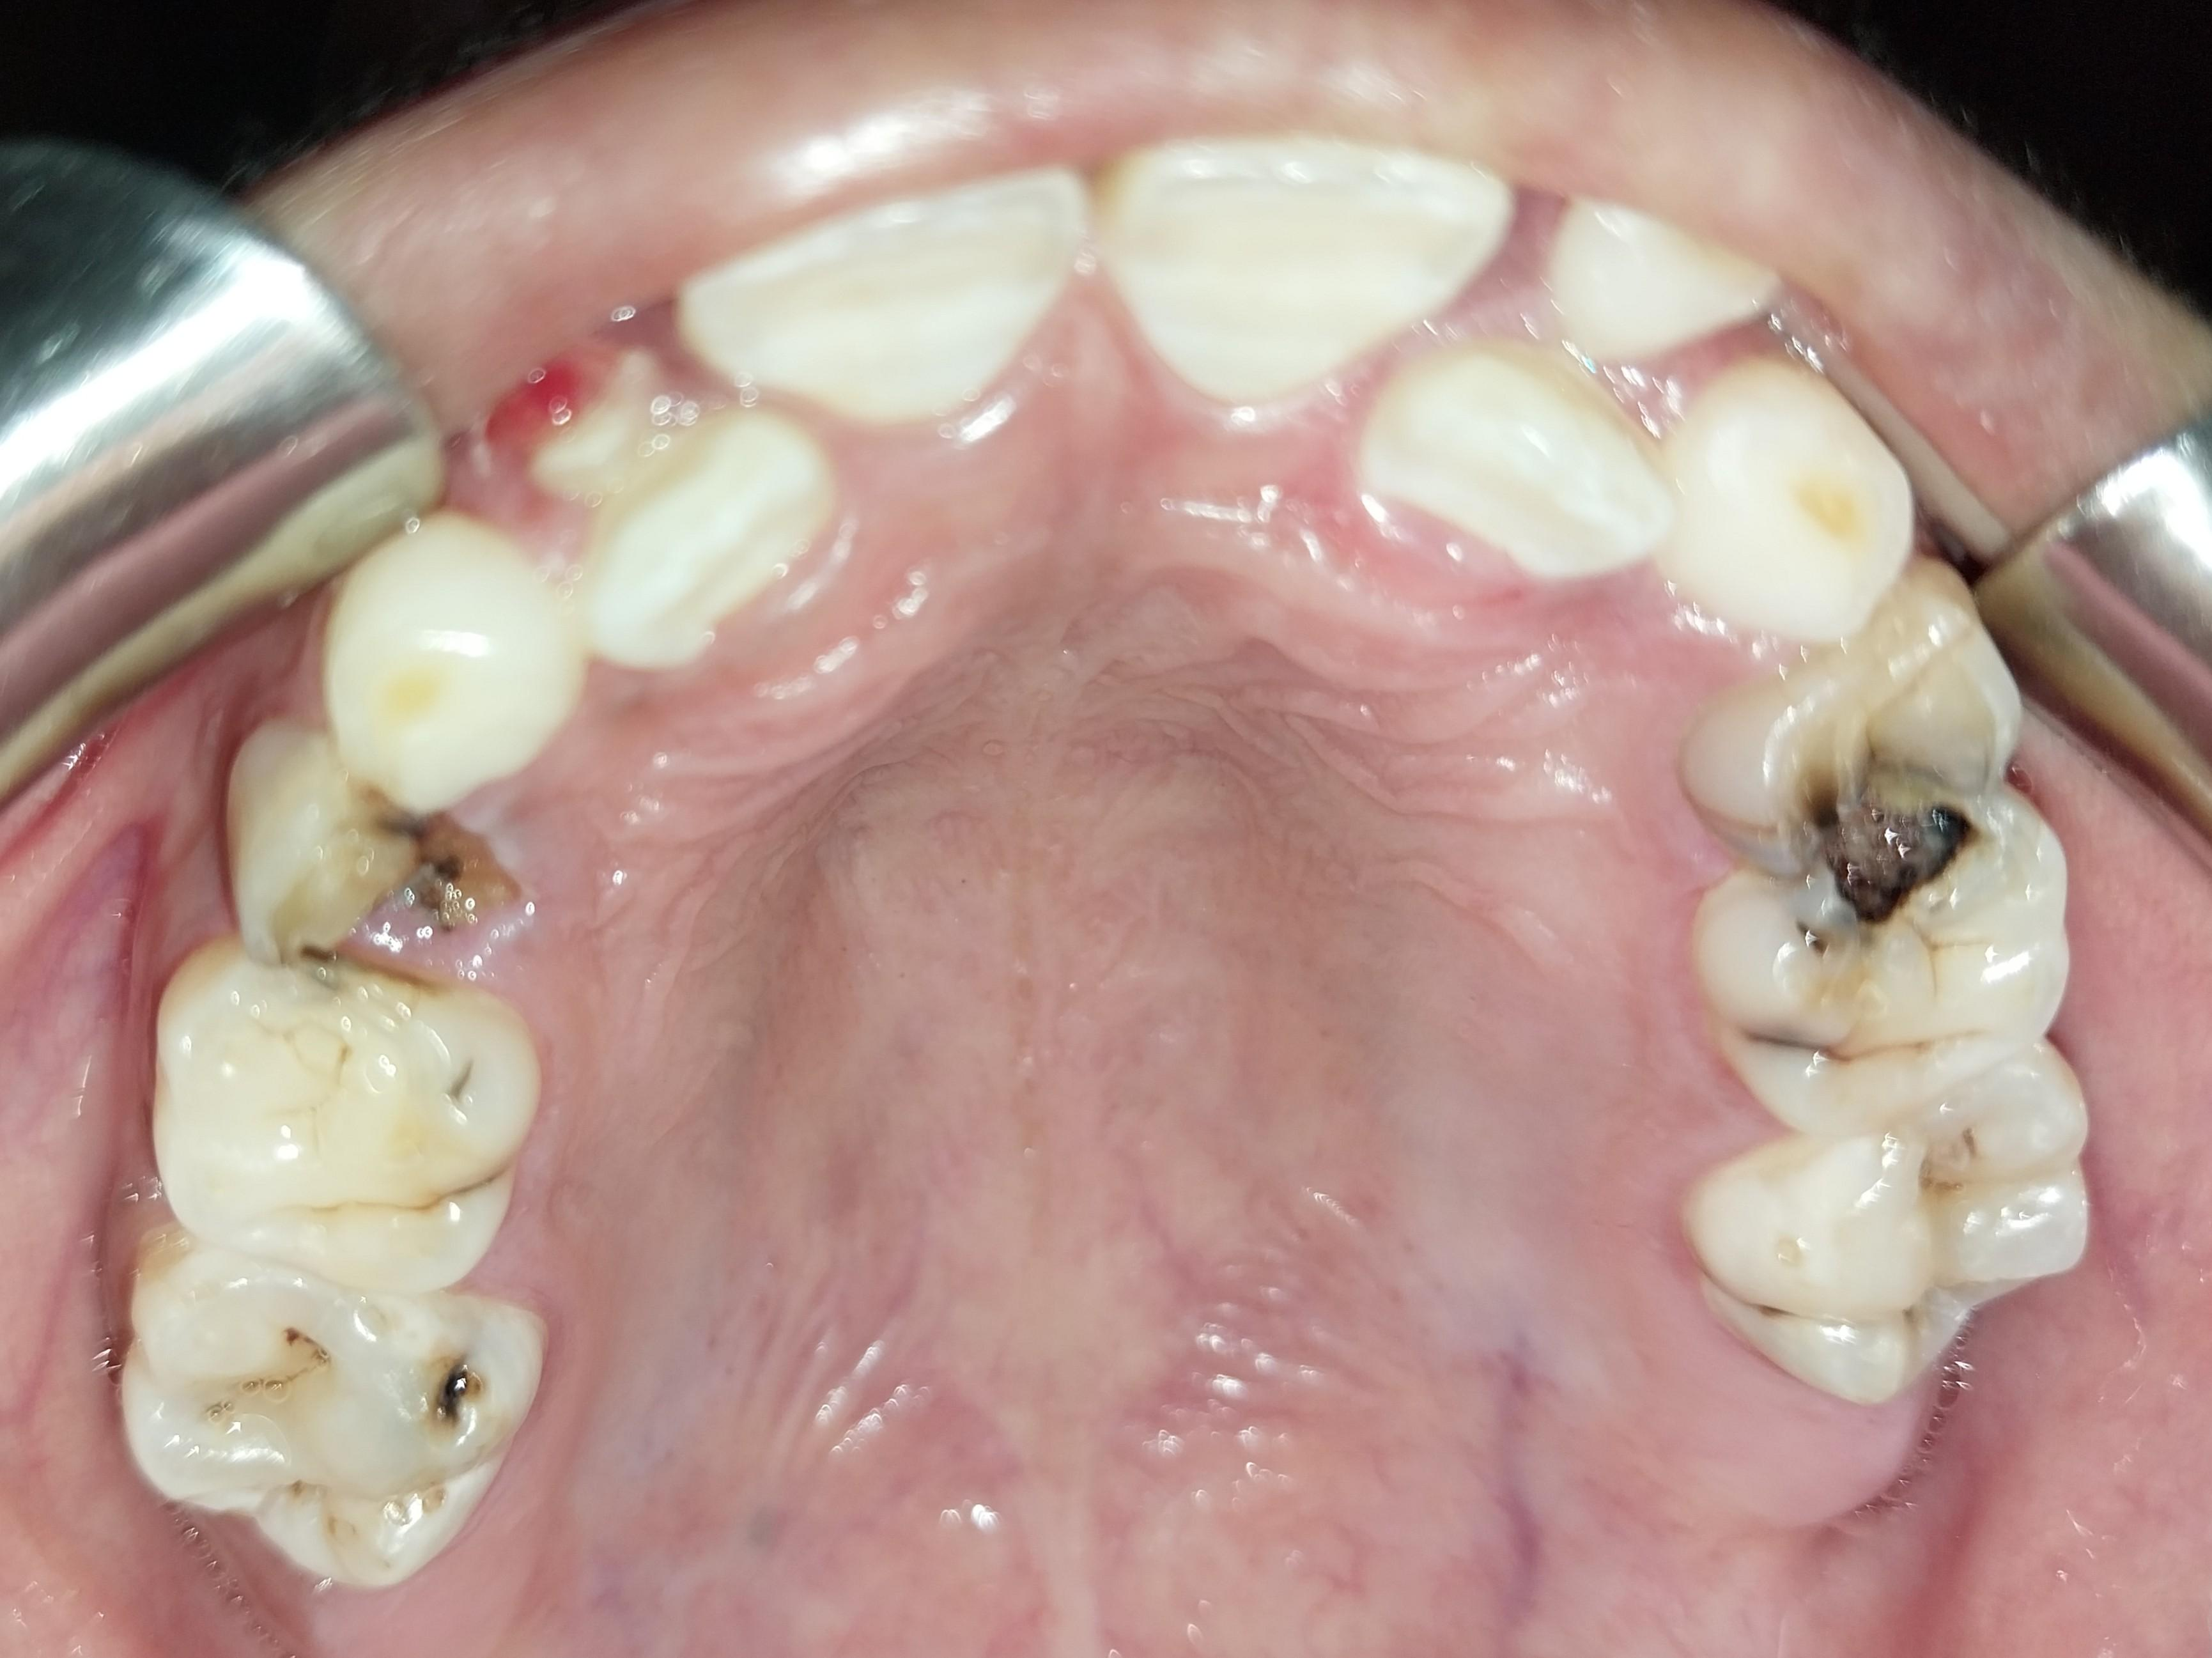D: (109, 1238, 548, 1590), (1684, 1081, 2093, 1407)
d: (141, 939, 536, 1294), (1664, 605, 2021, 957), (1690, 837, 2076, 1149), (220, 721, 536, 1014)
